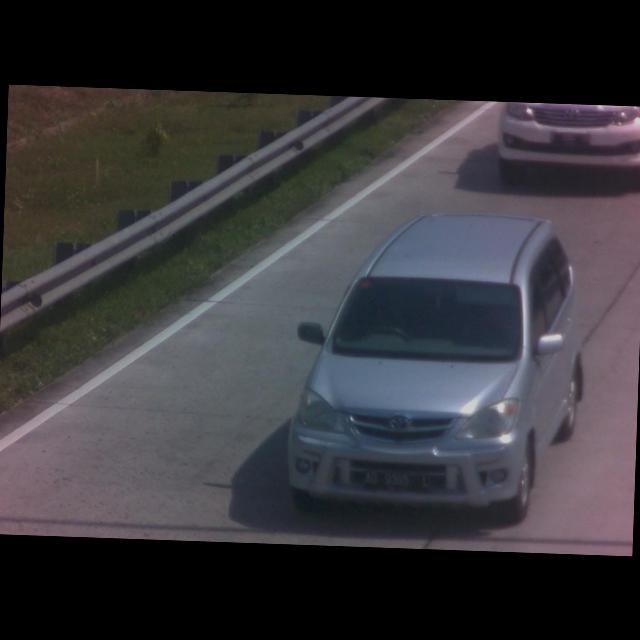plate: (361, 468, 430, 497)
